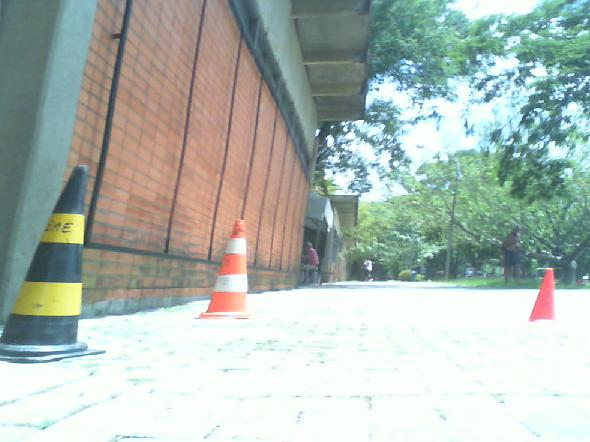0 cone: (0, 166, 105, 364), (196, 220, 249, 319), (526, 268, 556, 323)
